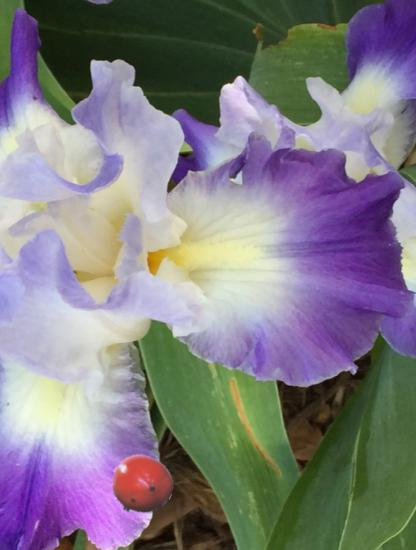Kaki: (110, 454, 174, 518)
